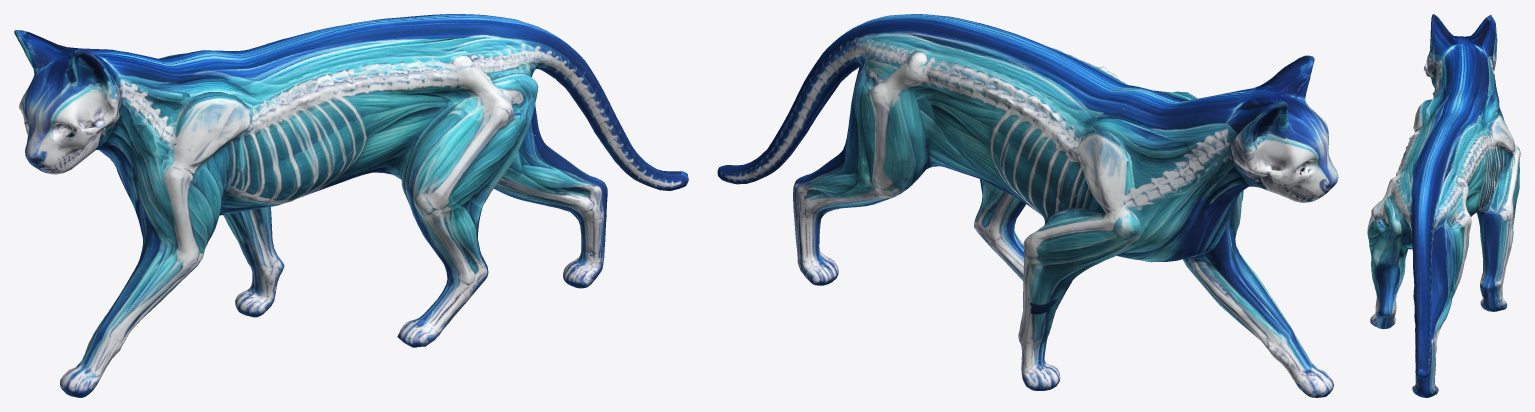
File: cat-muscle-bone.glb
3 views of the same model, side by side, from view 1: azimuth 30°, elevation 25°; view 2: azimuth 150°, elevation 25°; view 3: azimuth 270°, elevation 25° (orthographic). The views are drawn at different scales.
Visible parts, largest first — view 1: Mesh1.0; view 2: Mesh1.0; view 3: Mesh1.0.
Part boxes in pixels (left/top/right/bottom): Mesh1.0: left=14, top=14, right=688, bottom=397; Mesh1.0: left=717, top=14, right=1338, bottom=397; Mesh1.0: left=1367, top=14, right=1520, bottom=397.
Size of the model in its own units: 1.92 by 1.01 by 0.6193.
Materials: 1 (1 with a texture image).
